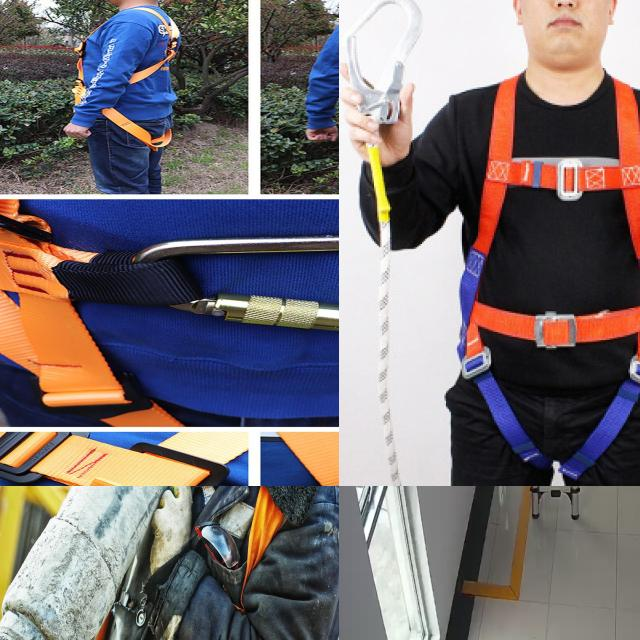Harness: (455, 76, 640, 469)
hand_glove: (144, 486, 195, 571)
person: (112, 486, 339, 640)
vest: (198, 486, 339, 640)
